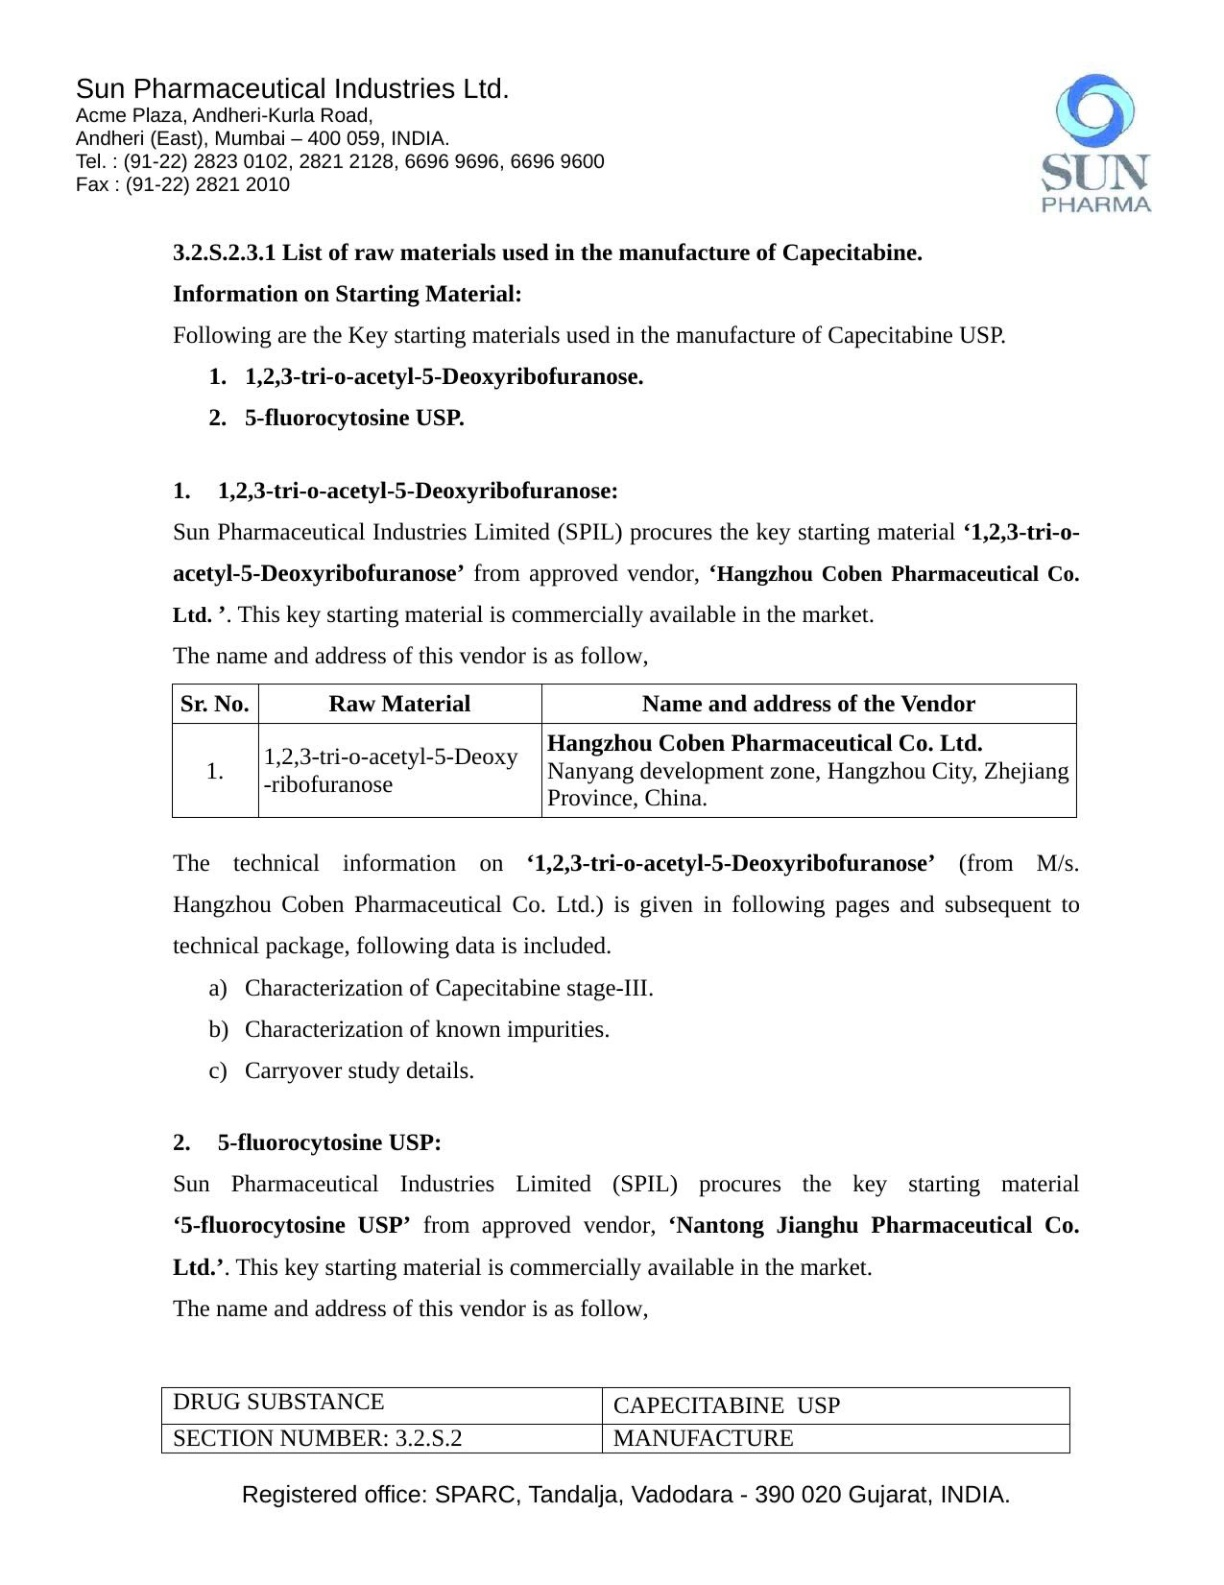full_lined: (170, 683, 1077, 819), (159, 1387, 1071, 1454)
